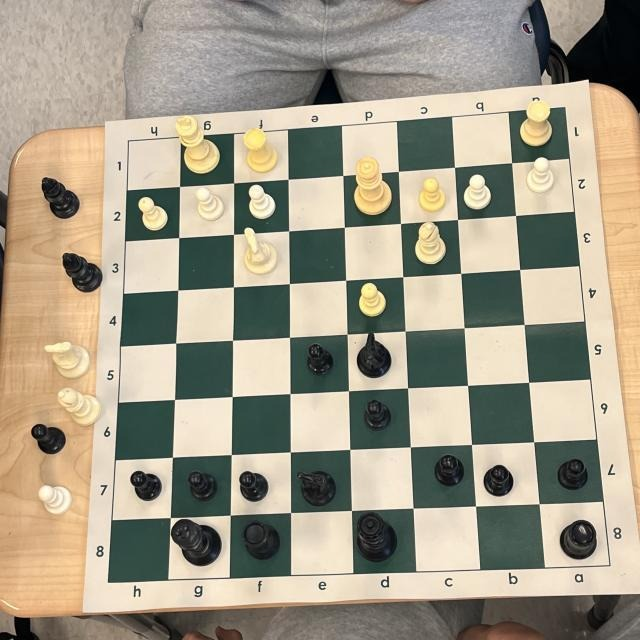black-bishop: (59, 250, 104, 294), (41, 177, 83, 219)
black-king: (169, 518, 223, 570)
black-knight: (352, 332, 393, 379), (294, 469, 337, 509)
black-pawn: (552, 439, 589, 488), (436, 436, 463, 491), (304, 328, 332, 378), (480, 459, 516, 496), (30, 422, 67, 455), (127, 468, 161, 503), (187, 470, 221, 502), (362, 397, 394, 431), (238, 469, 270, 502)
black-queen: (353, 507, 398, 563)
black-rook: (556, 517, 599, 561), (242, 520, 282, 562)
white-bishop: (416, 209, 447, 271), (56, 388, 101, 426)
white-king: (173, 113, 220, 174)
white-knight: (238, 228, 277, 278), (42, 340, 89, 380)
white-pawn: (247, 170, 277, 225), (466, 161, 494, 217), (190, 185, 228, 221), (36, 482, 76, 515), (417, 174, 447, 214), (522, 159, 555, 195), (356, 282, 389, 318), (138, 196, 170, 230)
white-queen: (350, 156, 393, 215)
white-rook: (241, 128, 279, 172), (520, 100, 554, 147)
